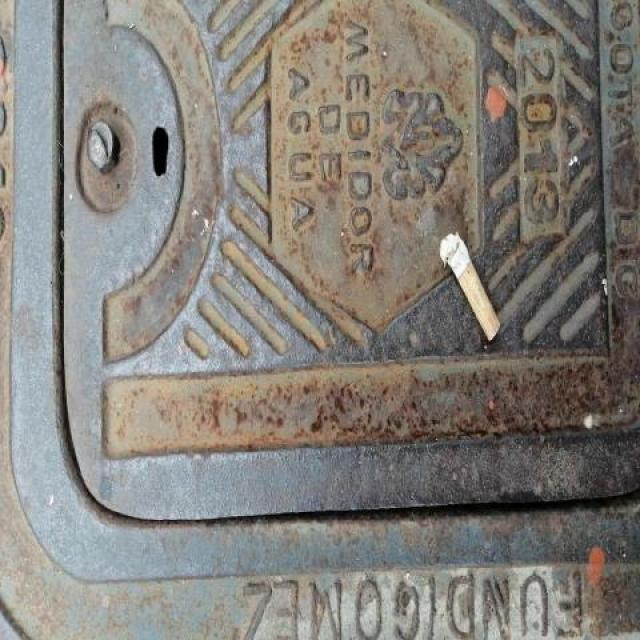non-organic waste: (438, 227, 506, 346)
